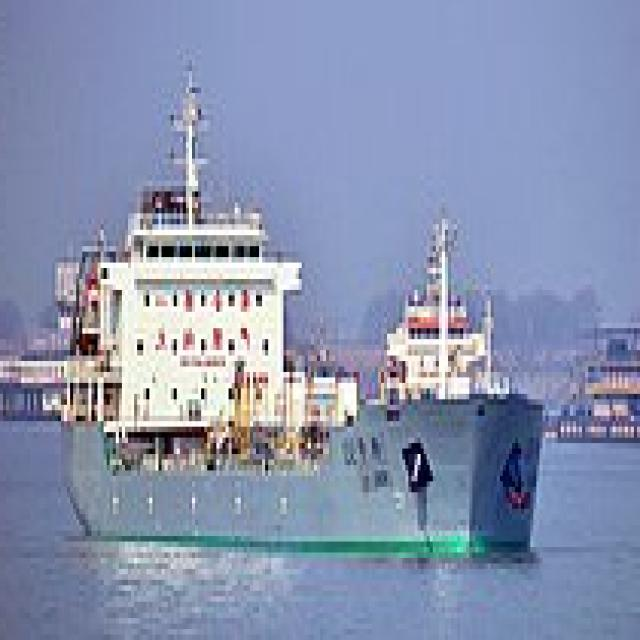Tanker: (58, 50, 552, 552)
